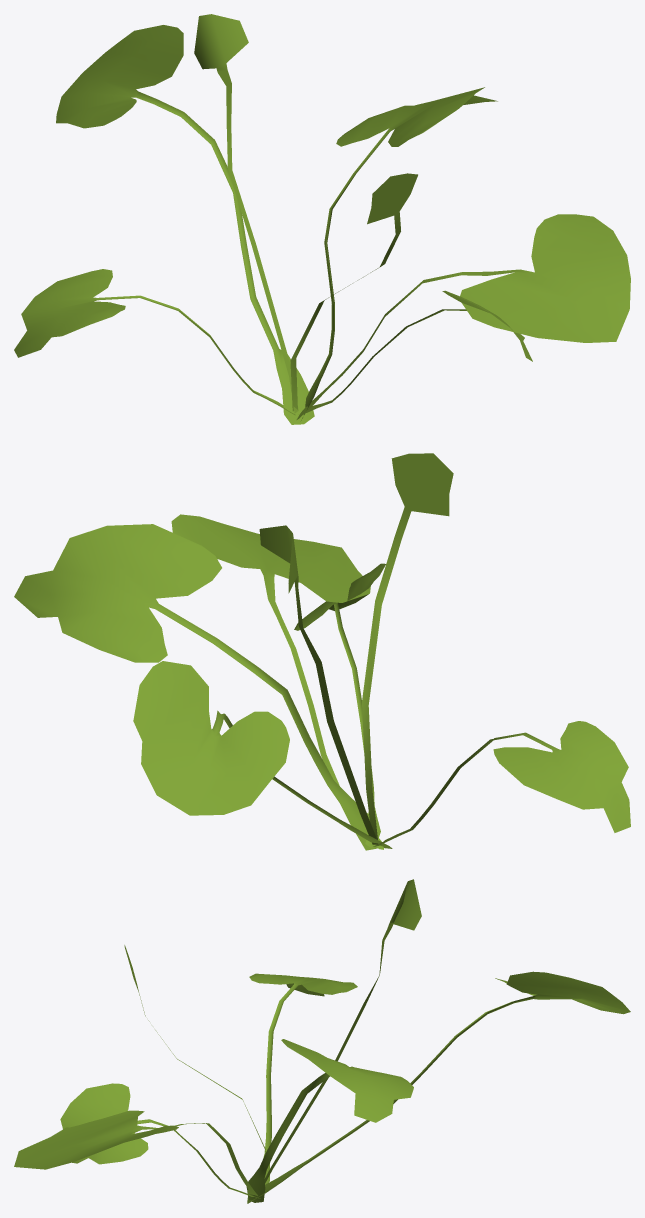
File: groundcover_plant_10.fbx
The picture shows the model from 3 angles, top to bottom: view 1: azimuth 30°, elevation 25°; view 2: azimuth 150°, elevation 25°; view 3: azimuth 270°, elevation 25°; orthographic projection. The views are drawn at different scales.
Parts seen in each view (by area): view 1: groundcover_plant_10_LOD0; view 2: groundcover_plant_10_LOD0; view 3: groundcover_plant_10_LOD0.
Boxes of the visible parts, x1,y1,x2,y2 form: groundcover_plant_10_LOD0: (14,14,630,424); groundcover_plant_10_LOD0: (14,453,630,850); groundcover_plant_10_LOD0: (14,879,630,1203).
Size of what is drawn, in the model's own units: 0.1883 by 0.1237 by 0.2163.
